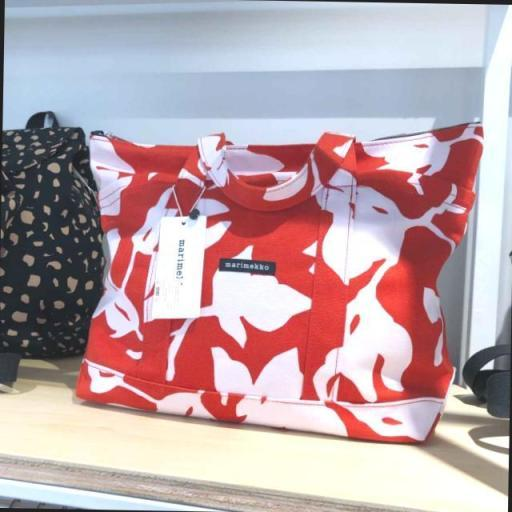bag: (58, 101, 506, 454)
